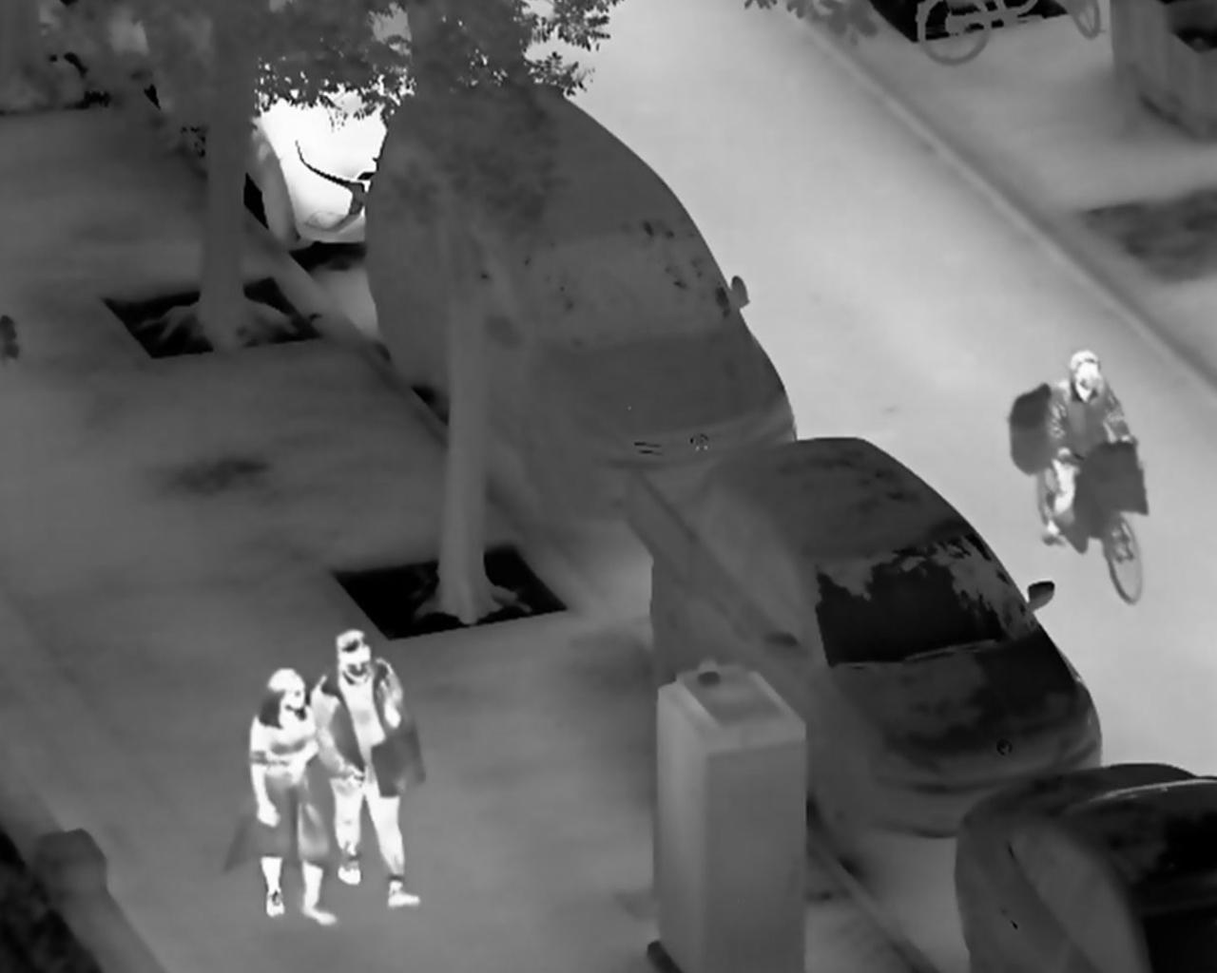person: (311, 624, 425, 911), (238, 662, 338, 927), (1042, 344, 1138, 551)
